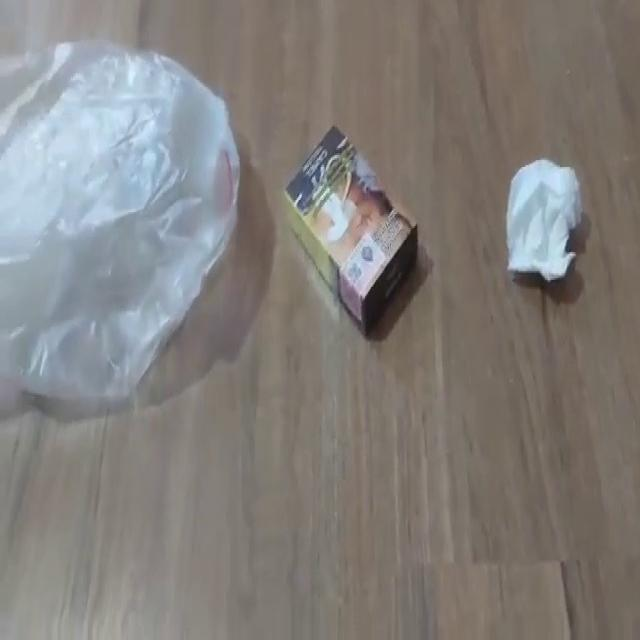Anorganik: (1, 35, 246, 412)
Organik: (282, 120, 422, 344), (504, 150, 586, 288)
